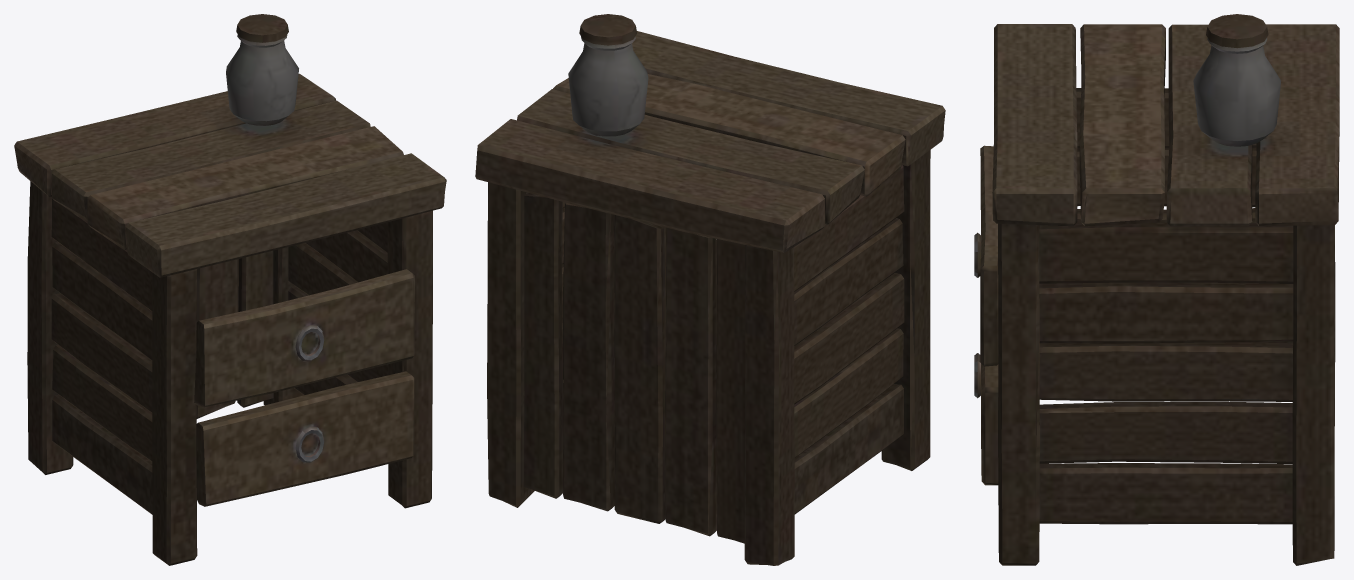
The model's file is nightstand.glb.
3 views of the same model, side by side, from view 1: azimuth 30°, elevation 25°; view 2: azimuth 150°, elevation 25°; view 3: azimuth 270°, elevation 25° (orthographic). The views are drawn at different scales.
Visible parts, largest first — view 1: nightstand; view 2: nightstand; view 3: nightstand.
Part boxes in pixels (x1=…): nightstand: x1=14, y1=14, x2=446, y2=565; nightstand: x1=475, y1=14, x2=945, y2=565; nightstand: x1=974, y1=14, x2=1339, y2=565.
Bounding box in the file's own units: 0.559 × 0.7822 × 0.5162.
Materials: 1 (1 with a texture image).
